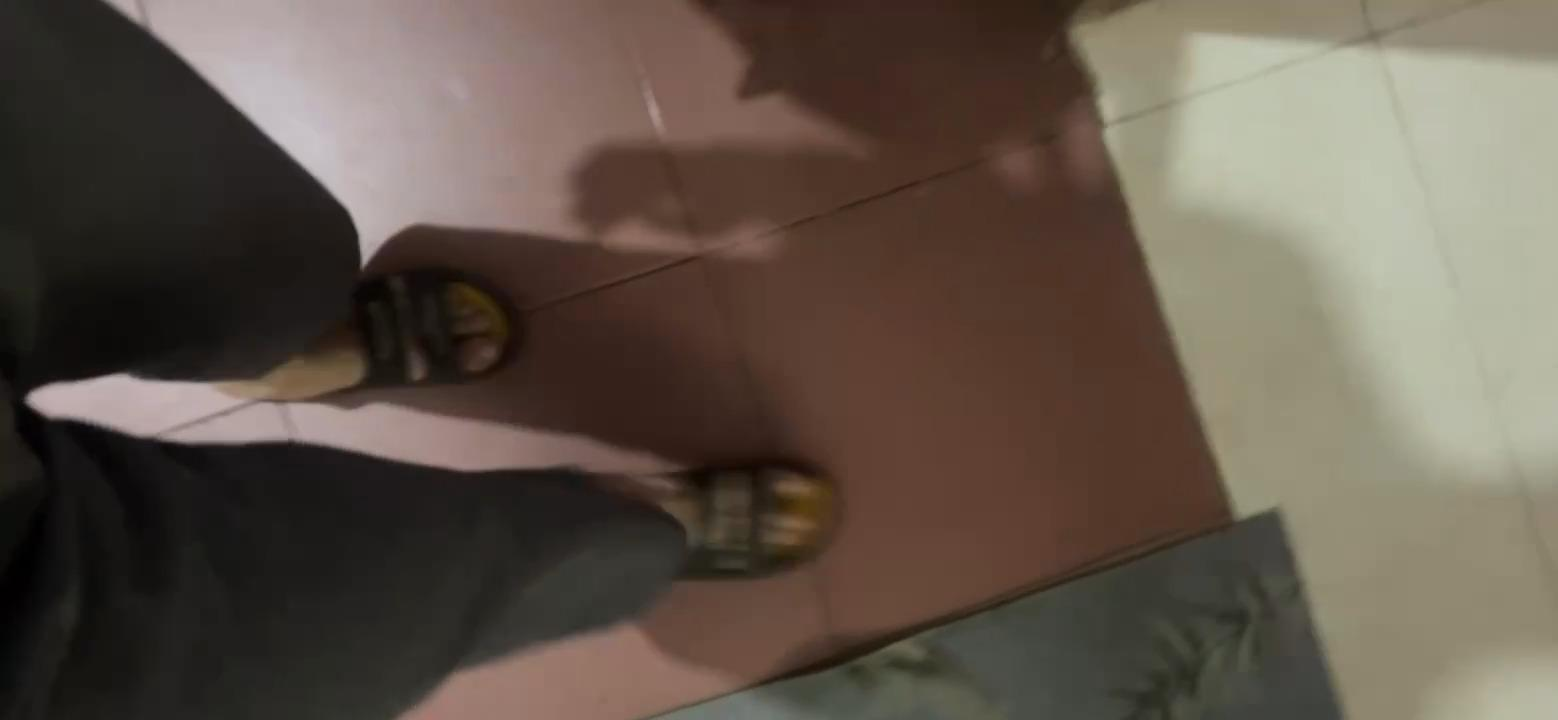no-boot: (607, 445, 843, 584), (289, 265, 516, 403)
